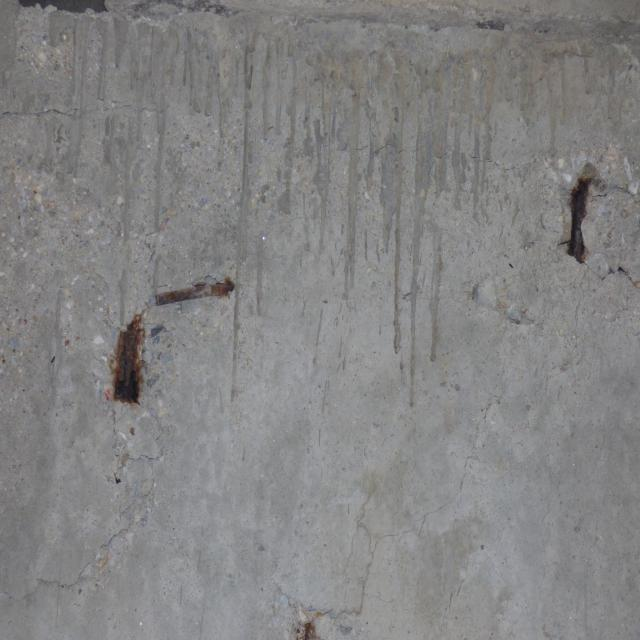corrosion: (87, 268, 249, 499), (560, 159, 597, 271), (283, 605, 330, 640)
